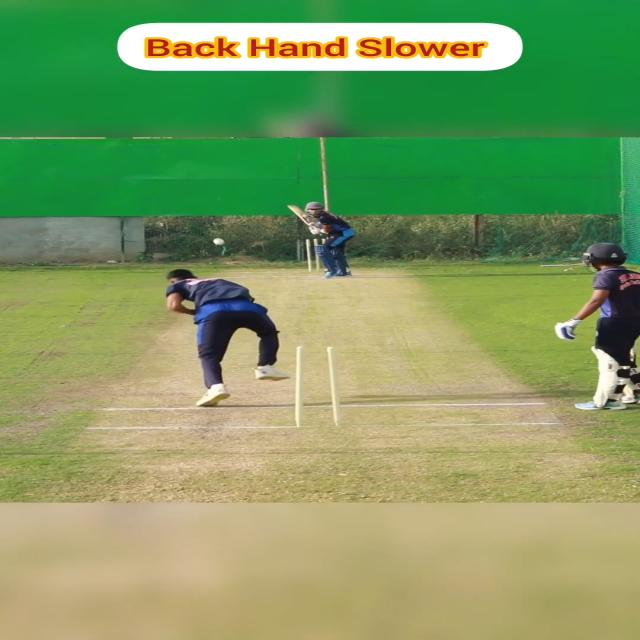ball: (212, 238, 226, 246)
stump: (292, 345, 344, 428), (304, 238, 326, 274)
